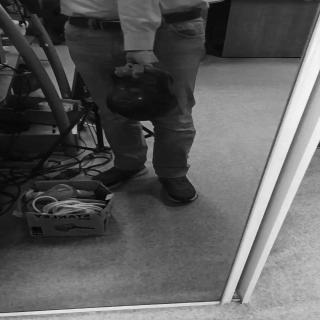kettlebell: (103, 64, 180, 122)
